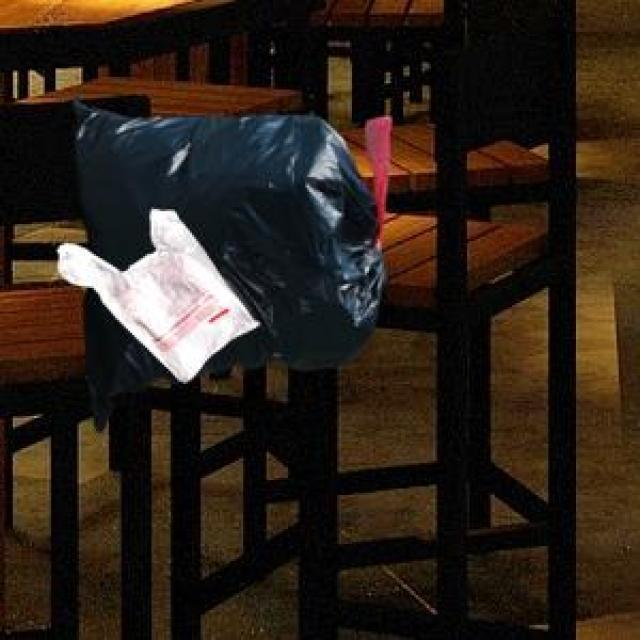miscellaneous trash: (70, 92, 388, 427)
